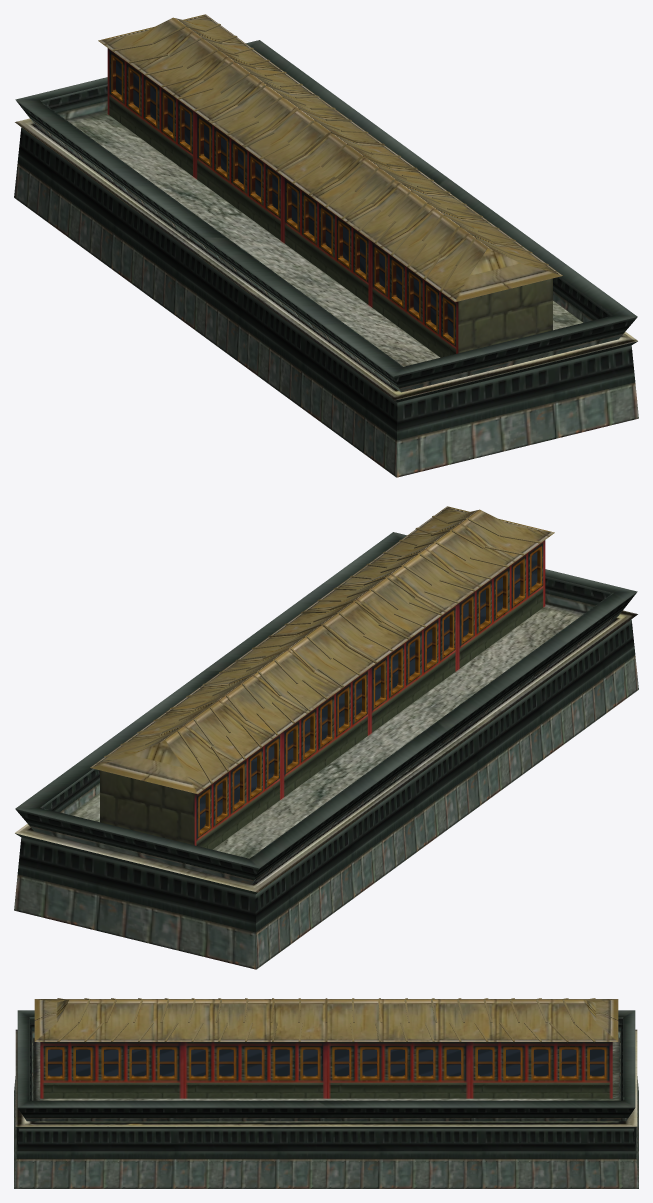
The model's file is l_elitebarracks_cad.glb.
3 views of the same model, one above another, from view 1: azimuth 30°, elevation 25°; view 2: azimuth 150°, elevation 25°; view 3: azimuth 270°, elevation 25° (orthographic). The views are drawn at different scales.
Visible parts, largest first — view 1: barracks; view 2: barracks; view 3: barracks.
Boxes of the visible parts, bbox=[...] form: barracks: bbox=[14, 14, 638, 477]; barracks: bbox=[14, 506, 638, 969]; barracks: bbox=[14, 998, 638, 1188].
Size of the model in its own units: 15.7 by 10.73 by 42.56.
1 material, 1 textured.
